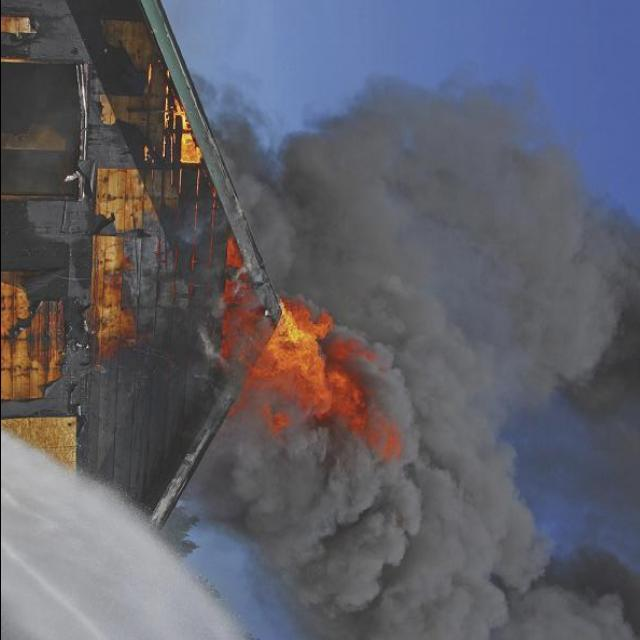Fire: (212, 237, 408, 473), (168, 89, 209, 173)
